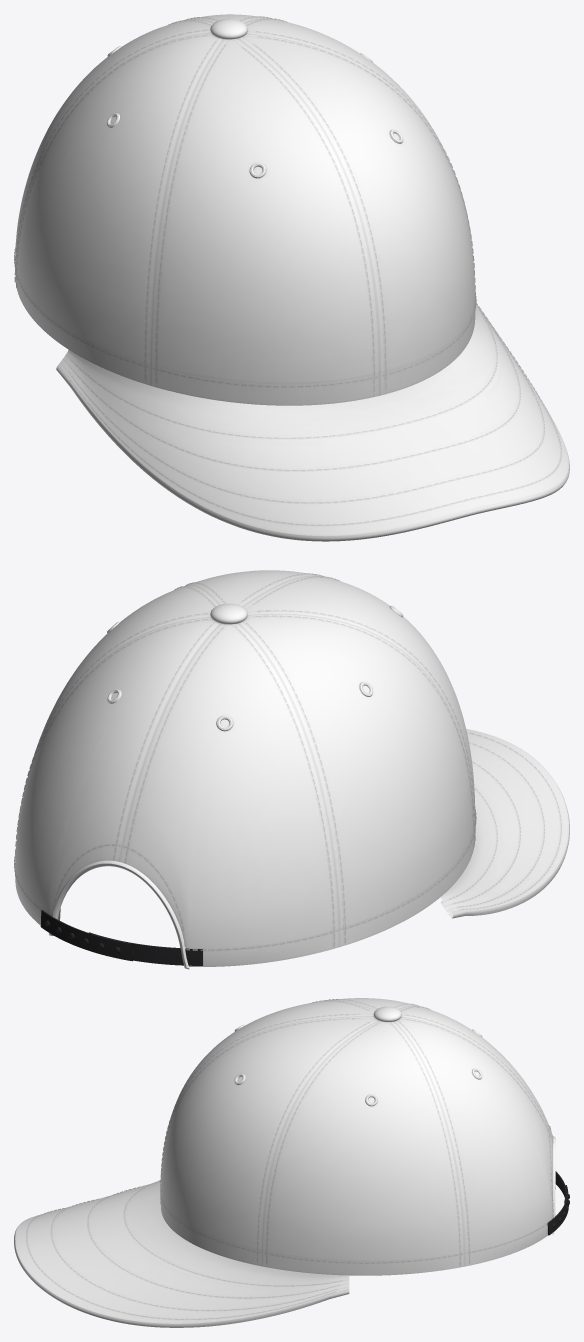
Rendered from americano.glb.
The picture shows the model from 3 angles, top to bottom: view 1: azimuth 30°, elevation 25°; view 2: azimuth 150°, elevation 25°; view 3: azimuth 270°, elevation 25°; orthographic projection. The views are drawn at different scales.
Visible parts, largest first — view 1: frente, aba, laterais, costura-aba, traseira, costura-frente, aba__beirada, costura-laterais, costura-traseira; view 2: traseira, laterais, aba, frente, fixo__regulador, costura-traseira, costura-laterais, costura-aba, traseira__vies, costura-frente, aba__beirada, botao; view 3: laterais, frente, aba, traseira, costura-aba, aba__beirada, costura-frente, costura-laterais, costura-traseira, fixo__regulador.
Part boxes in pixels (<box>): frente: <box>151,33,475,405</box>; aba: <box>57,305,568,536</box>; laterais: <box>16,18,461,385</box>; costura-aba: <box>67,302,561,526</box>; traseira: <box>15,14,269,283</box>; costura-frente: <box>153,36,476,390</box>; aba__beirada: <box>56,366,569,541</box>; costura-laterais: <box>16,18,472,379</box>; costura-traseira: <box>14,16,271,282</box>; traseira: <box>15,617,339,966</box>; laterais: <box>23,585,473,946</box>; aba: <box>441,729,568,913</box>; frente: <box>186,570,475,847</box>; fixo__regulador: <box>40,910,202,965</box>; costura-traseira: <box>14,618,337,950</box>; costura-laterais: <box>17,586,474,943</box>; costura-aba: <box>448,732,561,910</box>; traseira__vies: <box>48,860,189,969</box>; costura-frente: <box>185,573,476,840</box>; aba__beirada: <box>452,785,569,918</box>; botao: <box>210,603,247,624</box>; laterais: <box>262,998,464,1275</box>; frente: <box>161,1000,378,1266</box>; aba: <box>15,1181,349,1323</box>; traseira: <box>394,1006,552,1266</box>; costura-aba: <box>26,1180,342,1320</box>; aba__beirada: <box>14,1228,349,1327</box>; costura-frente: <box>160,1000,369,1261</box>; costura-laterais: <box>264,999,462,1265</box>; costura-traseira: <box>397,1006,553,1263</box>; fixo__regulador: <box>547,1171,569,1235</box>.
Bounding box in the file's own units: 1.7 × 1.39 × 2.75.
Materials: 11 (6 with a texture image).
